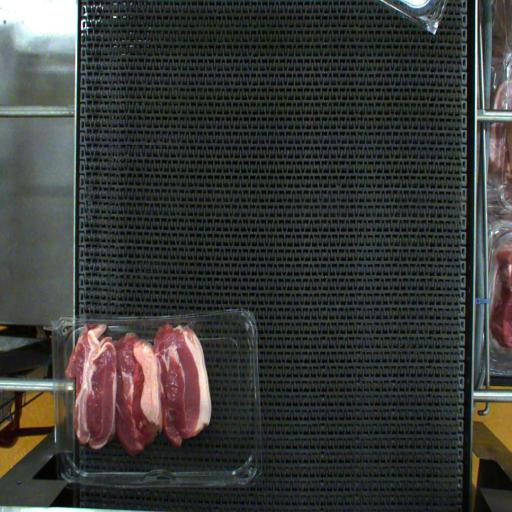packaging-error: (74, 306, 203, 343)
